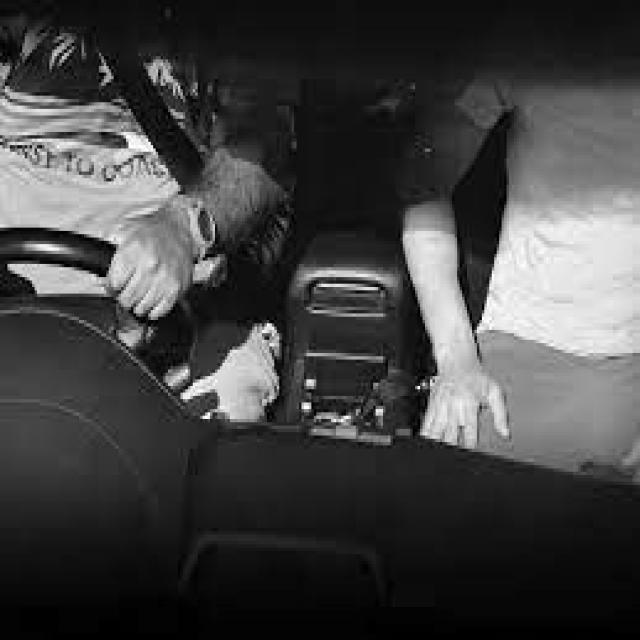Seatbelt: (87, 46, 205, 185)
